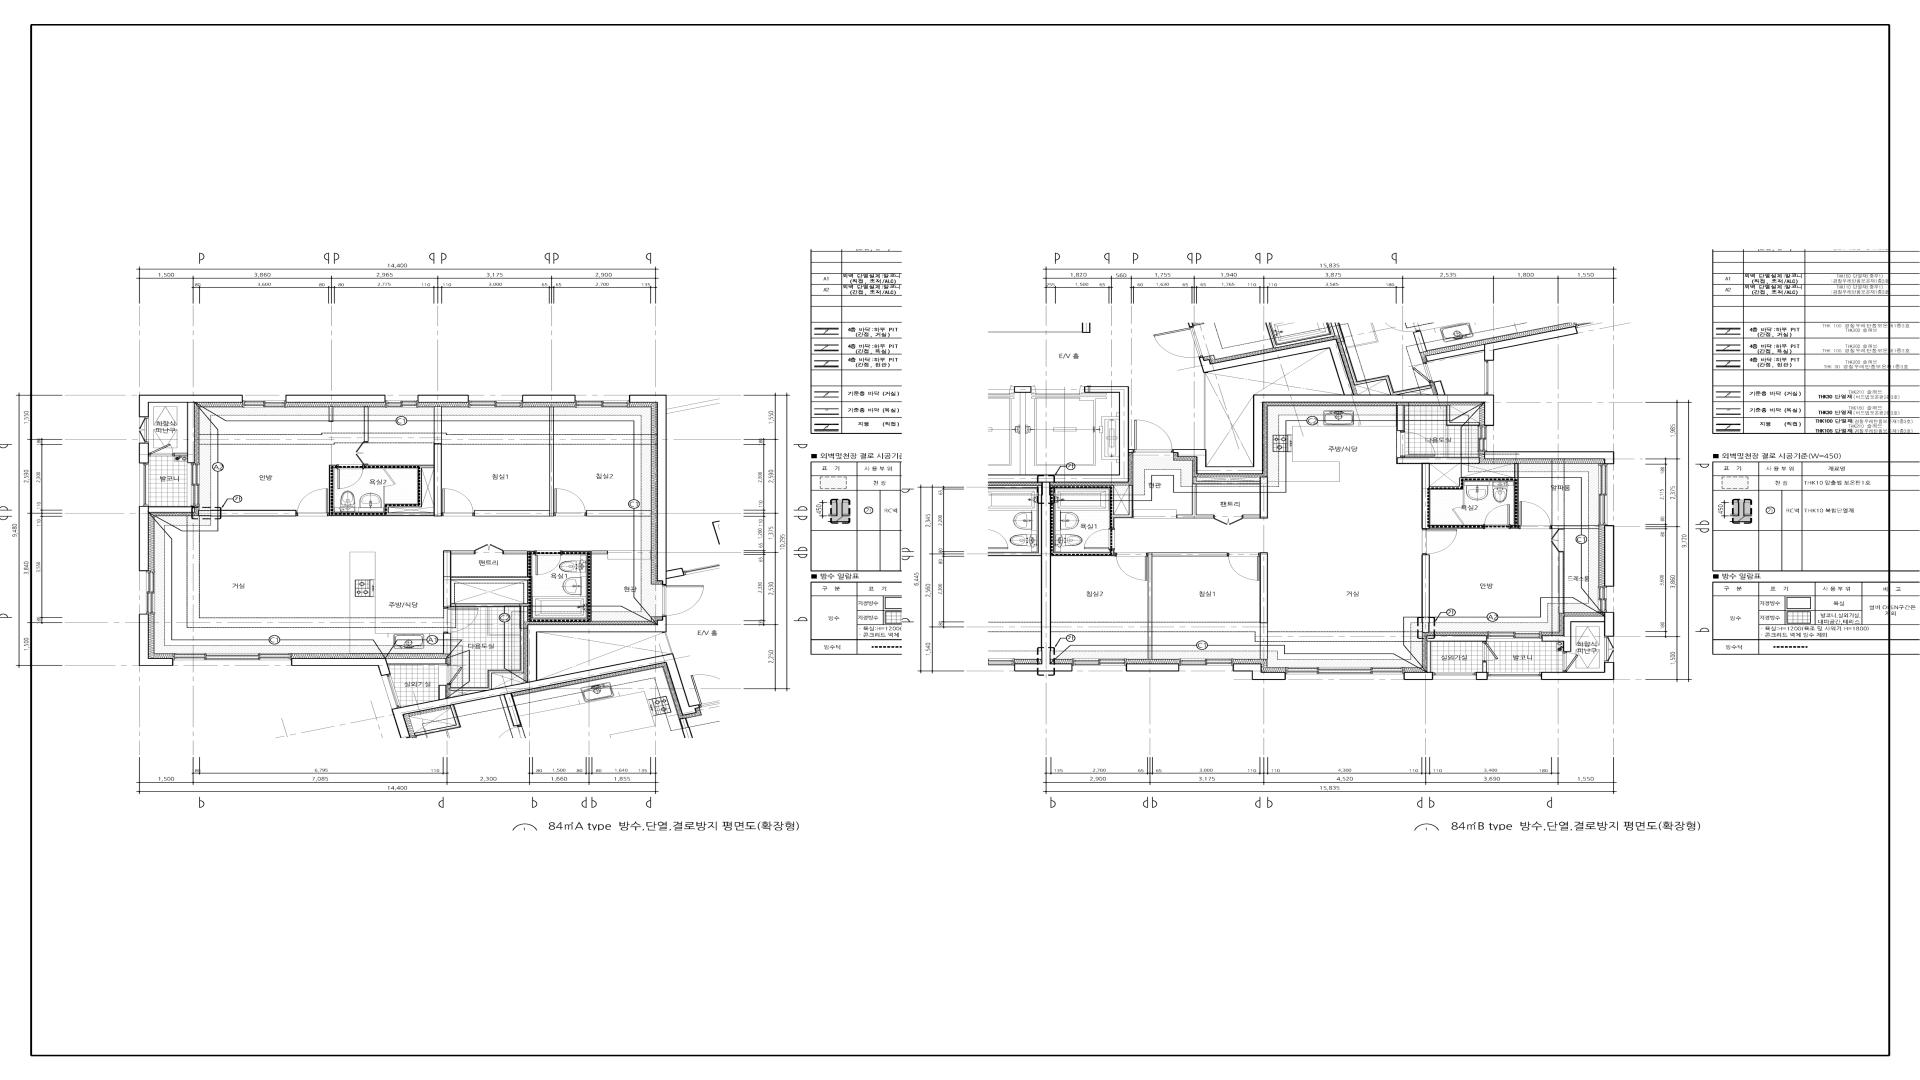door: (1133, 420, 1173, 453), (662, 585, 704, 616), (1114, 553, 1148, 581), (443, 607, 479, 633), (1422, 529, 1458, 555), (1400, 431, 1436, 457), (1227, 553, 1260, 581), (1519, 501, 1552, 529), (442, 488, 474, 516), (554, 488, 586, 516), (296, 489, 329, 516), (1483, 504, 1511, 529), (1084, 528, 1115, 550), (337, 464, 364, 489), (535, 551, 562, 576), (383, 469, 396, 503), (149, 444, 174, 457), (1551, 529, 1565, 552), (1563, 652, 1579, 672), (1482, 642, 1498, 662), (447, 665, 462, 685), (475, 544, 504, 554), (1214, 515, 1243, 525), (356, 442, 368, 465), (1452, 507, 1465, 525)
wall: (1173, 339, 1494, 474), (988, 386, 1134, 671), (392, 617, 666, 717), (1396, 457, 1519, 529), (1148, 553, 1227, 659), (629, 395, 666, 585), (139, 395, 242, 463), (443, 551, 529, 622), (450, 607, 523, 690), (1051, 485, 1133, 556), (329, 465, 434, 516), (528, 551, 591, 622), (1176, 477, 1268, 518), (1404, 635, 1487, 680), (139, 506, 194, 571), (1542, 612, 1614, 652), (291, 659, 446, 676), (451, 580, 528, 604), (139, 614, 173, 666), (1484, 451, 1614, 464), (1542, 662, 1614, 680), (1233, 663, 1285, 680), (434, 407, 442, 516), (1260, 552, 1268, 659), (1446, 405, 1480, 426), (286, 395, 385, 402), (199, 510, 296, 517), (1422, 555, 1430, 633), (1604, 526, 1614, 586), (549, 407, 554, 516), (1126, 663, 1179, 672), (473, 510, 549, 516), (523, 395, 575, 403), (587, 510, 650, 516), (418, 395, 468, 402), (1559, 552, 1564, 613), (1396, 405, 1405, 431), (139, 443, 149, 463), (1476, 662, 1487, 680), (1552, 525, 1599, 529), (443, 633, 451, 654), (364, 408, 368, 442), (1014, 386, 1031, 393), (504, 551, 527, 554), (329, 407, 333, 421), (446, 686, 450, 698), (592, 551, 608, 554)
window: (1285, 667, 1404, 680), (173, 653, 291, 665), (1598, 464, 1614, 525), (1179, 659, 1233, 672), (381, 674, 401, 709), (139, 571, 155, 614), (1072, 659, 1126, 671), (468, 395, 522, 407), (576, 395, 629, 407), (243, 395, 286, 408), (1487, 631, 1542, 641), (187, 463, 199, 506), (1488, 672, 1542, 680), (139, 463, 149, 506), (1598, 586, 1614, 612), (1478, 426, 1494, 452), (385, 395, 418, 407), (1433, 672, 1476, 680), (1604, 636, 1614, 662), (139, 417, 148, 443)
